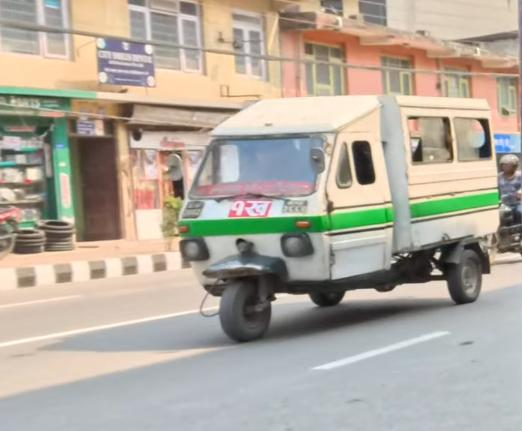tempo: (171, 90, 503, 346)
